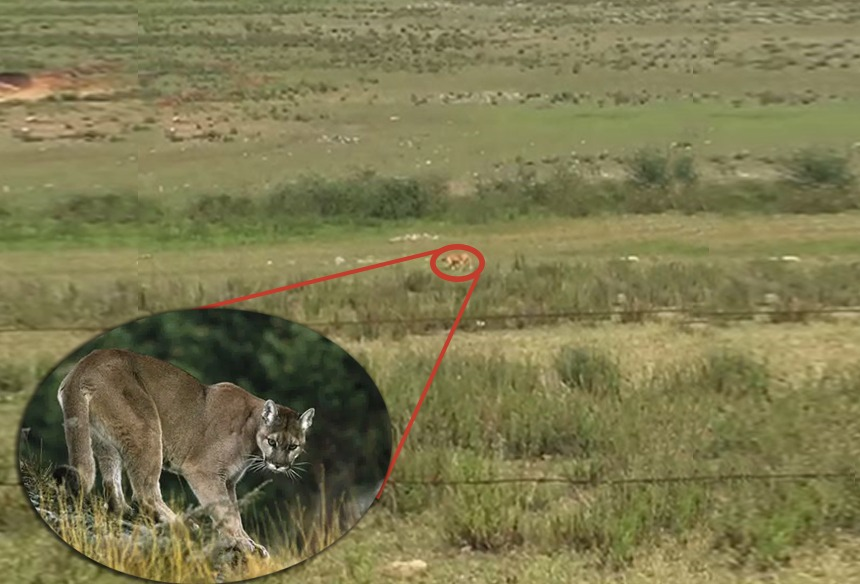OncaParda: (61, 348, 322, 558)
